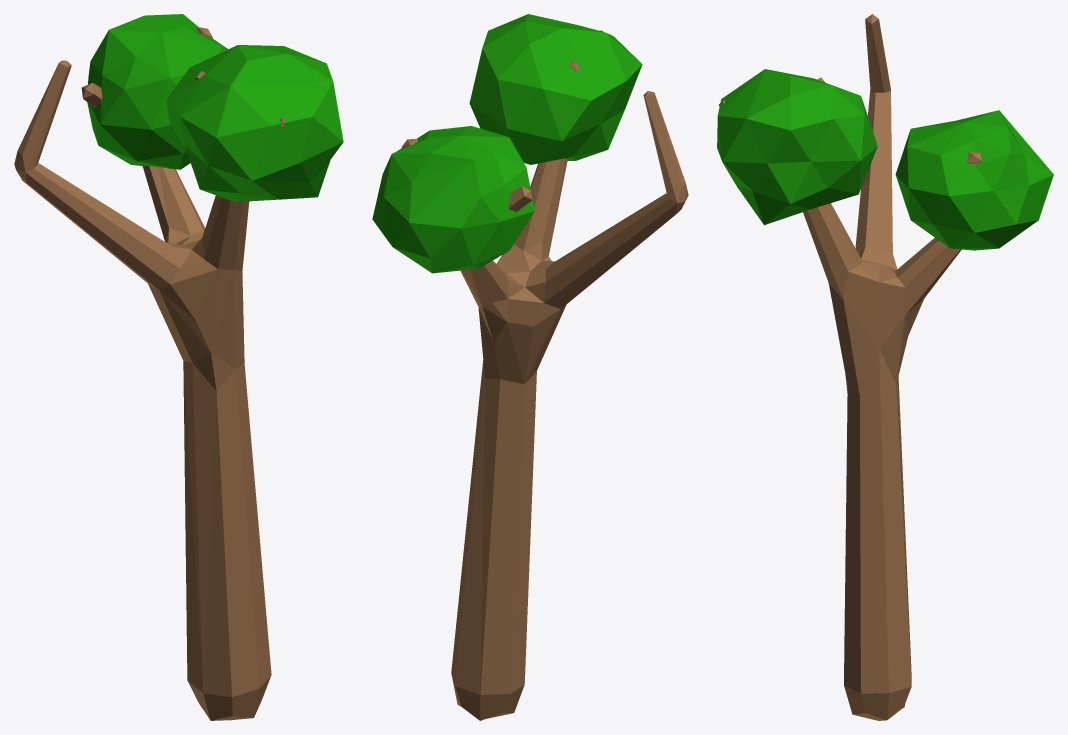
File: Tree_5.fbx
The picture shows the model from 3 angles, left to right: view 1: azimuth 30°, elevation 25°; view 2: azimuth 150°, elevation 25°; view 3: azimuth 270°, elevation 25°; orthographic projection. The views are drawn at different scales.
Visible parts, largest first — view 1: Tree5_mesh; view 2: Tree5_mesh; view 3: Tree5_mesh.
Boxes of the visible parts, <box> form: Tree5_mesh: <box>14,14,343,720</box>; Tree5_mesh: <box>372,14,688,720</box>; Tree5_mesh: <box>717,14,1053,720</box>.
Size of the model in its own units: 190 by 470 by 227.
